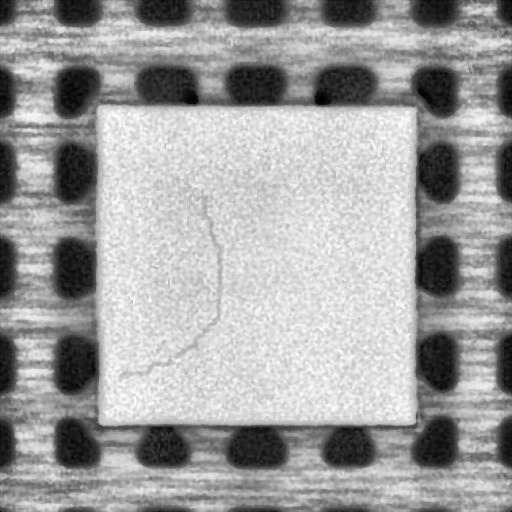DIE_CRACK: (122, 192, 221, 381)
